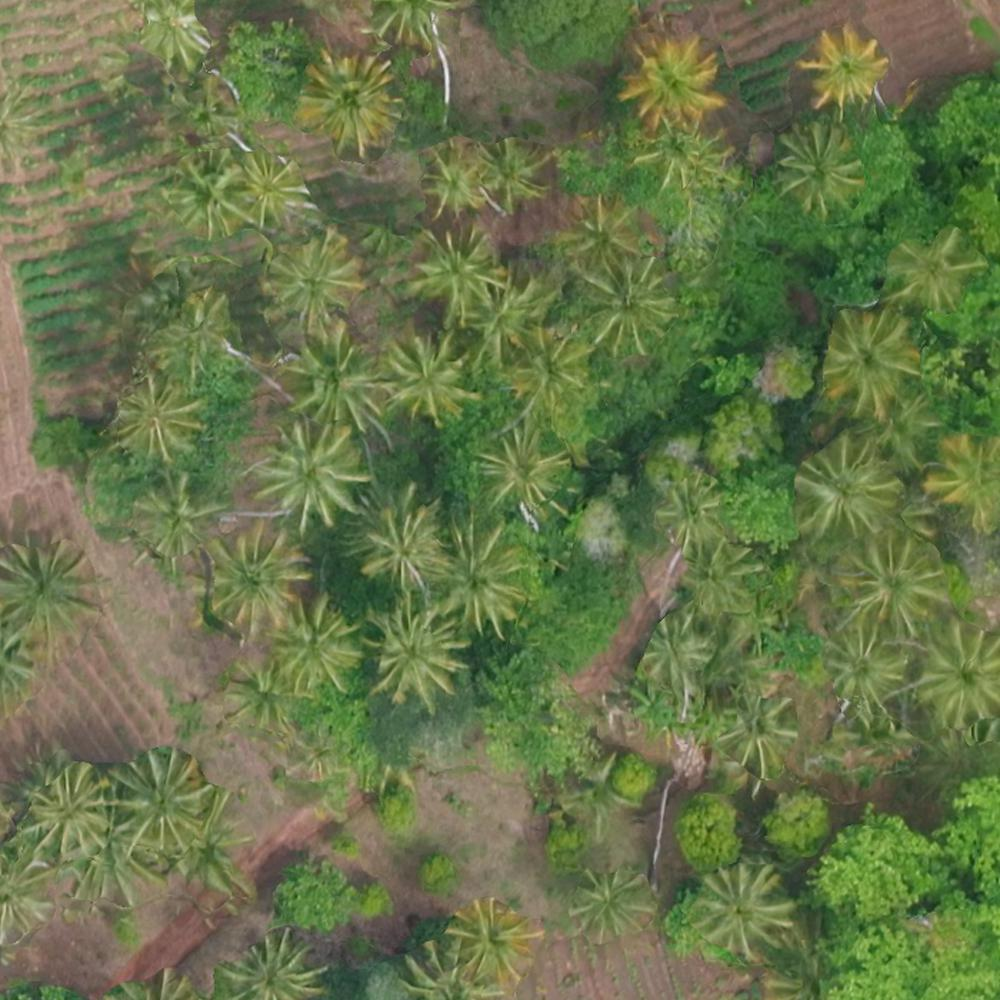Palm: (1, 541, 100, 651), (253, 424, 357, 527), (434, 519, 528, 631), (201, 528, 303, 631), (295, 48, 399, 144), (282, 326, 382, 423), (800, 439, 898, 537), (824, 309, 918, 411), (842, 541, 946, 633), (366, 613, 464, 708), (476, 422, 571, 519), (263, 232, 362, 325), (695, 861, 795, 952), (576, 260, 675, 348), (628, 36, 718, 132), (403, 228, 501, 316), (113, 754, 204, 848), (912, 622, 998, 721), (507, 323, 594, 417), (383, 333, 480, 417), (267, 602, 359, 689), (819, 626, 905, 715), (778, 119, 861, 210), (459, 268, 546, 354), (355, 504, 442, 588), (134, 471, 215, 559), (888, 229, 971, 314), (171, 158, 258, 239), (225, 931, 326, 1000), (629, 117, 725, 189), (29, 766, 107, 854), (121, 377, 203, 459), (446, 901, 533, 978), (927, 433, 1000, 522), (558, 200, 641, 275), (218, 657, 301, 731), (237, 145, 312, 224), (570, 866, 652, 938), (807, 27, 882, 105), (483, 138, 548, 211), (421, 144, 487, 214)
